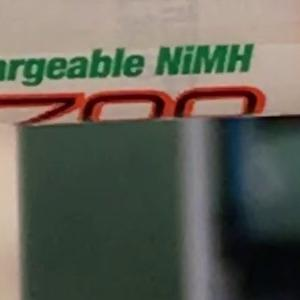NIMH: (145, 34, 263, 85)
